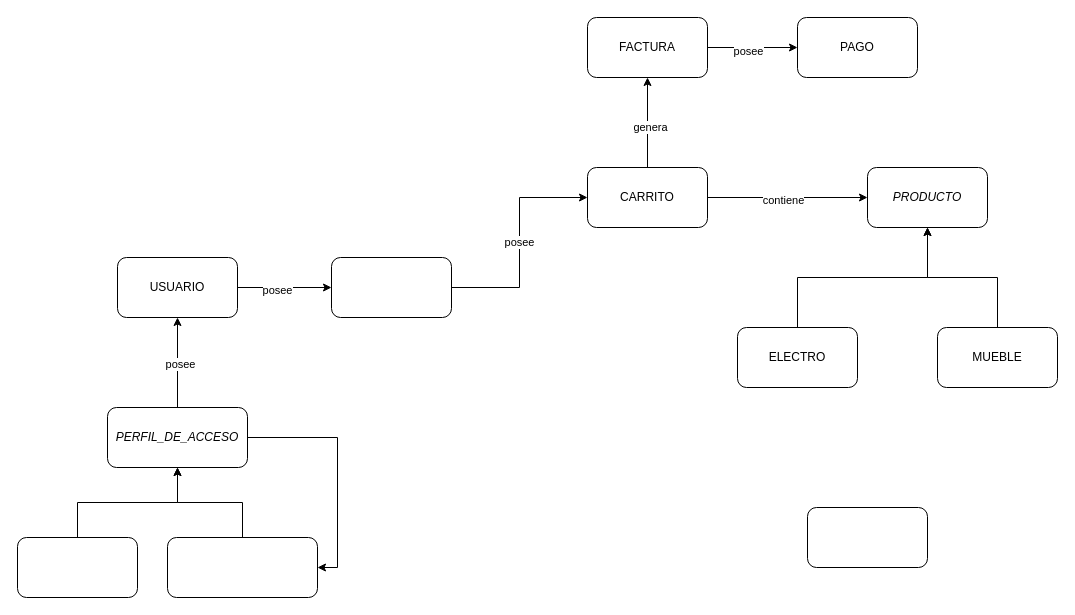
This 1075x615 diagram has some shape labels left out. The centre of each missing label's shape, as x and y in pixels:
BITACORA: the point at 867,537
CUENTA: the point at 391,287
PERMISO_COMPUESTO: the point at 242,567
PERMISO_SIMPLE: the point at 77,567
